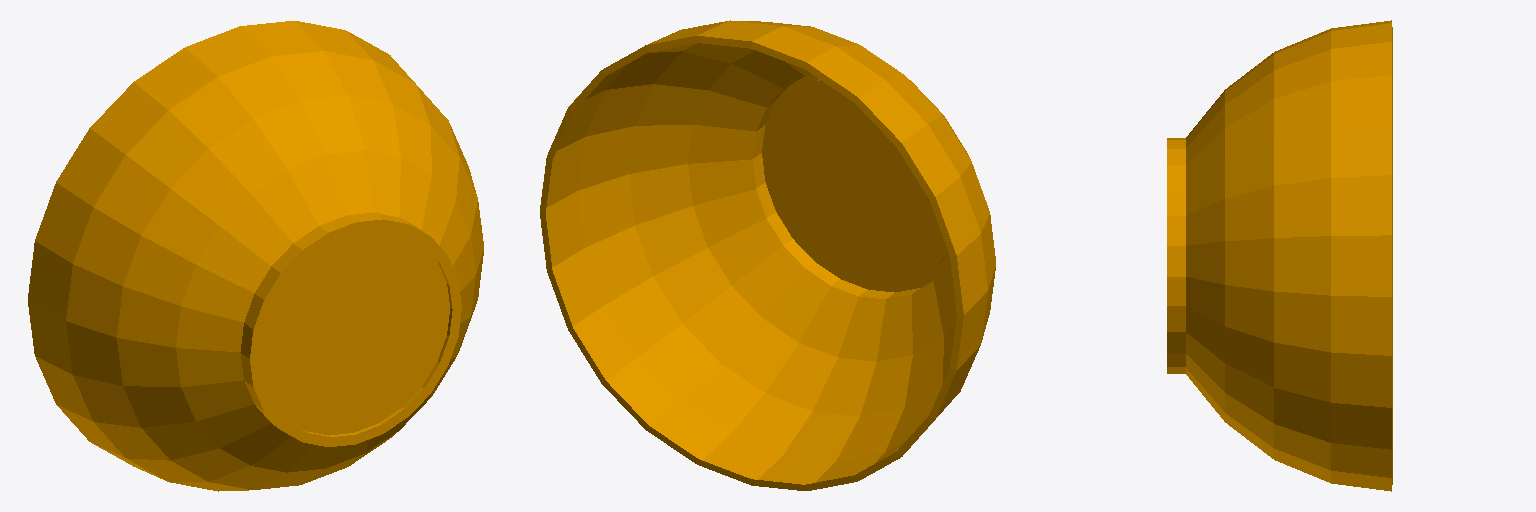
URDF robot description (sphere):
<?xml version="1.0" encoding="UTF-8" ?>
<robot name="sphere">

    <!-- link -->
    <link name="base">
        <visual>
            <geometry>
               <mesh filename="package://hello_urdf/mesh/bowl.dae"/>
            </geometry>
        </visual>
    </link>

</robot>

--- Render facts (derived) ---
Views: 3 orthographic renders of the robot side by side, from view 1: azimuth 30°, elevation 25°; view 2: azimuth 150°, elevation 25°; view 3: azimuth 270°, elevation 25°.
Model sphere with 1 links and 0 joints (none), rooted at base, posed all joints at 0.
Visible links, largest first — view 1: base; view 2: base; view 3: base.
Boxes of the visible links, left/top/right/bottom form: base: left=28, top=21, right=483, bottom=491; base: left=540, top=20, right=995, bottom=490; base: left=1167, top=20, right=1392, bottom=491.
Size in the robot's own frame: 2.06 by 0.9827 by 2.06 metres.
Meshes: 1 distinct files referenced, 1 mesh visuals loaded (1 Collada DAE).
